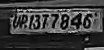1: (28, 13, 34, 31)
3: (33, 13, 40, 31)
4: (71, 10, 82, 32)
6: (83, 12, 93, 32)
7: (50, 12, 59, 32)
8: (60, 14, 69, 33)
P: (20, 13, 27, 30)
T: (42, 13, 49, 32)
U: (13, 13, 20, 29)
